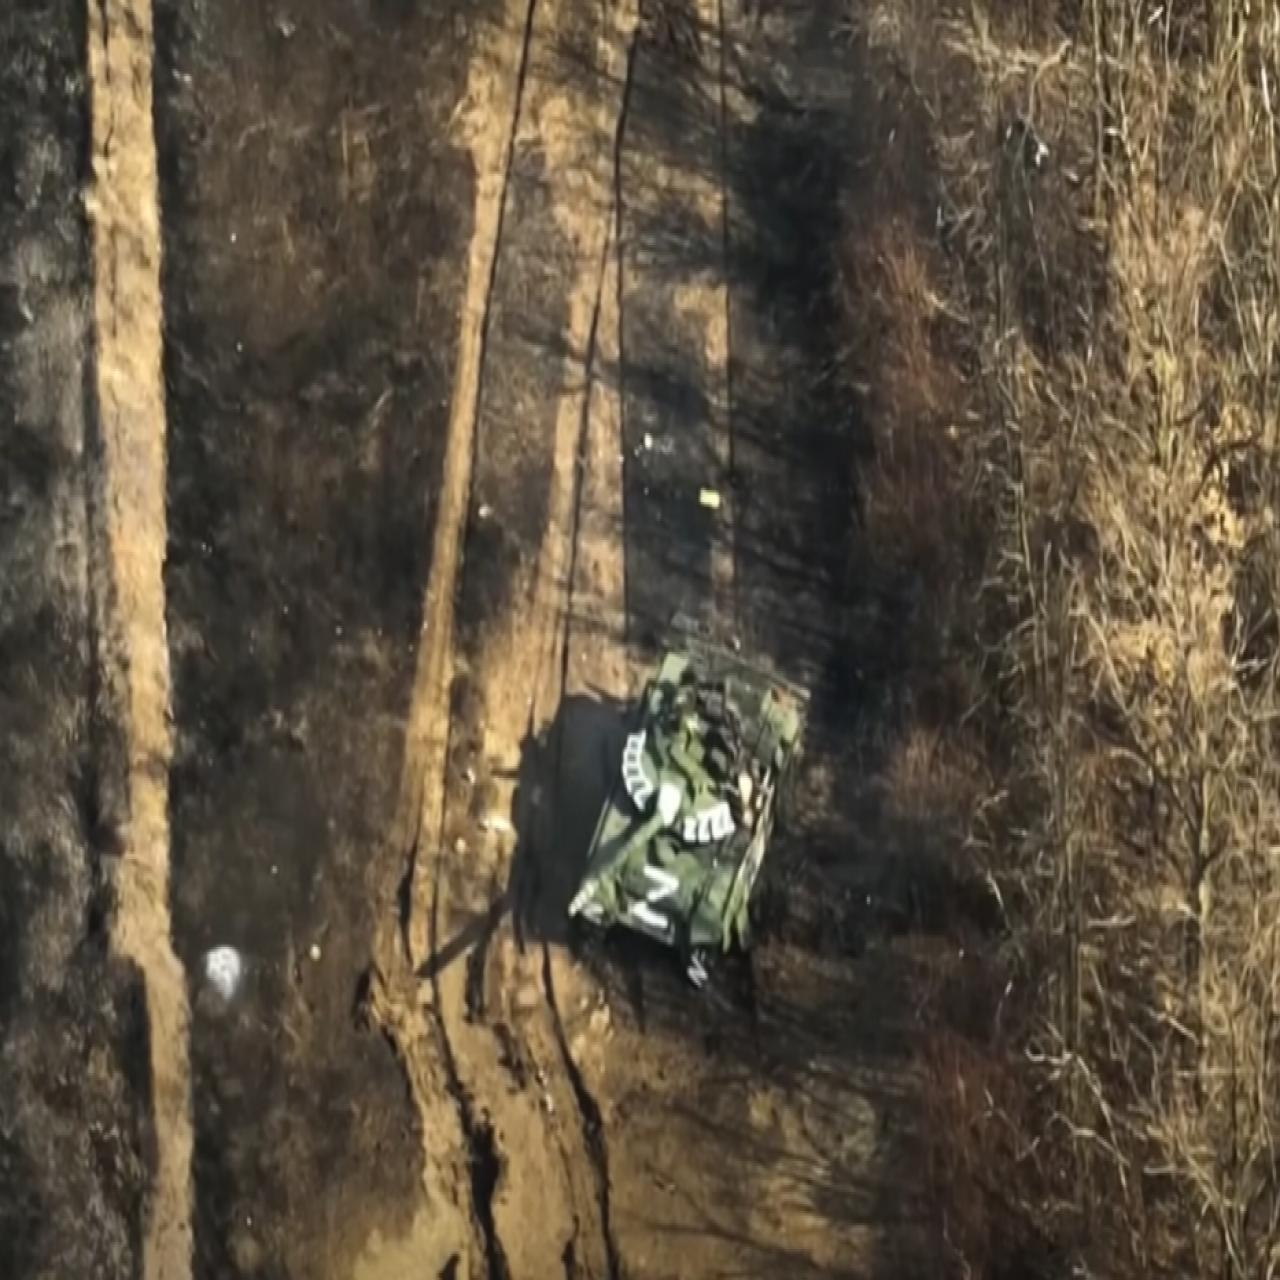MIL_Veh: (559, 602, 803, 975)
